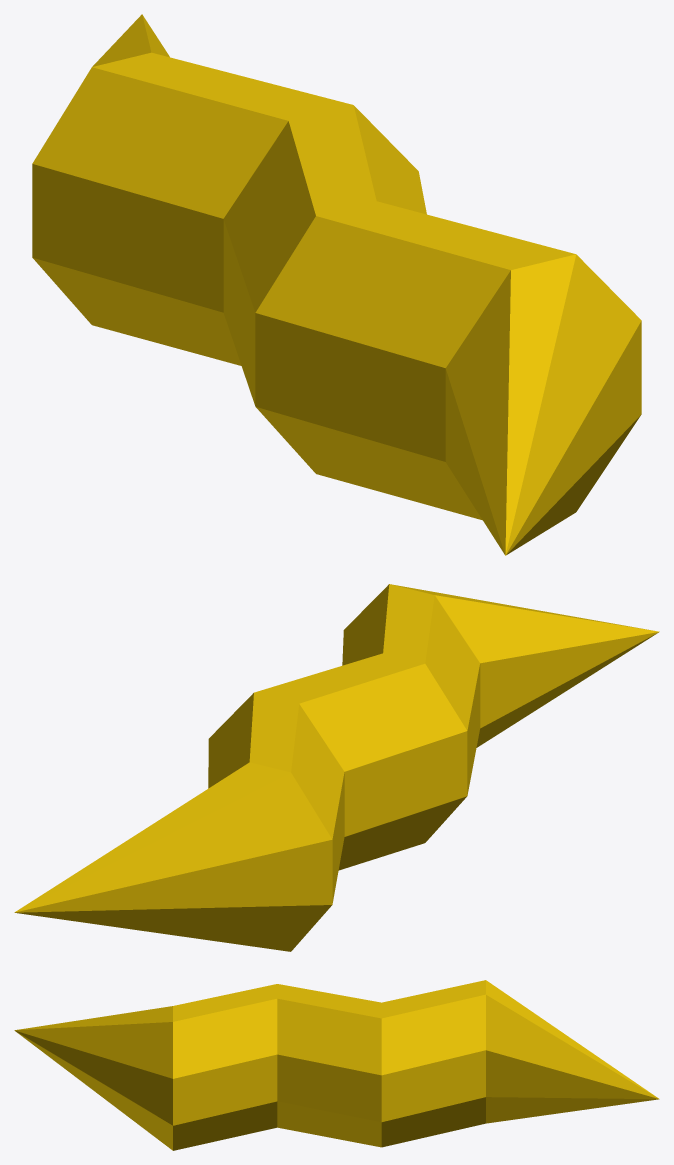
Rendered from screech.fbx.
3 renders of one model, top to bottom at view 1: azimuth 30°, elevation 25°; view 2: azimuth 150°, elevation 25°; view 3: azimuth 270°, elevation 25°, orthographic. The views are drawn at different scales.
Visible parts, largest first — view 1: Cube; view 2: Cube; view 3: Cube.
Part boxes in pixels (x1,y1,x2,y2): Cube: (32, 14, 641, 555); Cube: (14, 584, 659, 951); Cube: (14, 980, 659, 1150).
Size of the model in its own units: 120 by 100 by 454.
